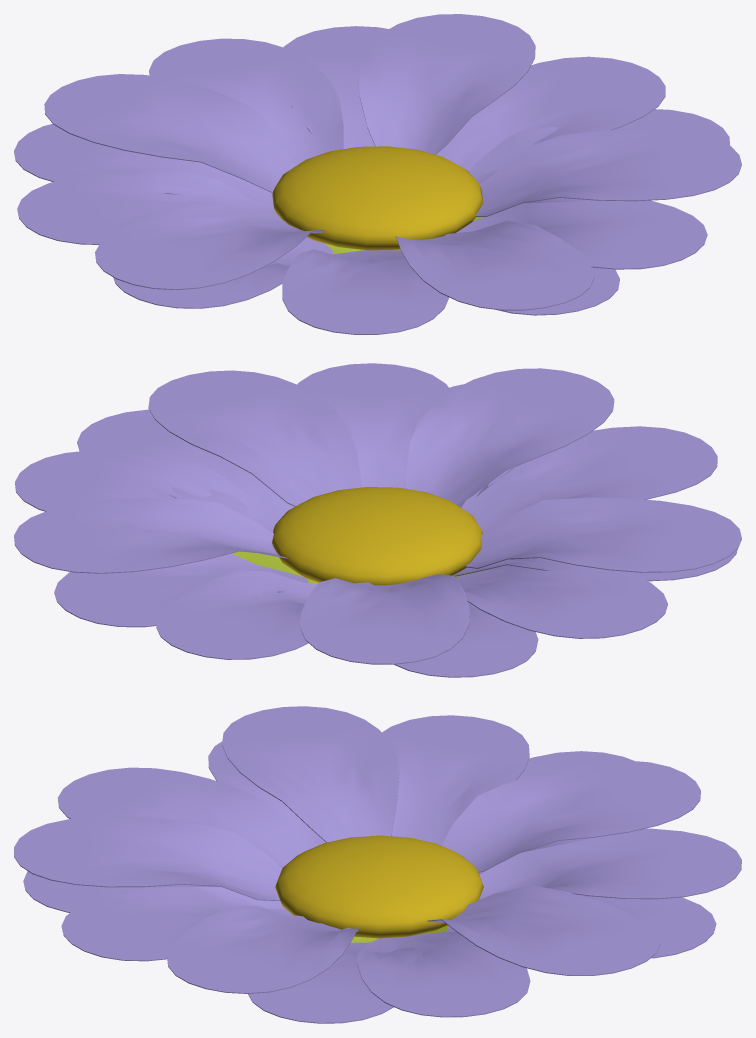
Rendered from Levetating_Flower.fbx.
3 renders of one model, top to bottom at view 1: azimuth 30°, elevation 25°; view 2: azimuth 150°, elevation 25°; view 3: azimuth 270°, elevation 25°, orthographic. The views are drawn at different scales.
Visible parts, largest first — view 1: group2_pDisc4; view 2: group2_pDisc4; view 3: group2_pDisc4.
Part boxes in pixels (box(x1,y1,x2,y2)): group2_pDisc4: box(14, 14, 741, 334); group2_pDisc4: box(14, 363, 741, 677); group2_pDisc4: box(14, 706, 741, 1023).
Bounding box in the file's own units: 6.85 × 1 × 6.98.
